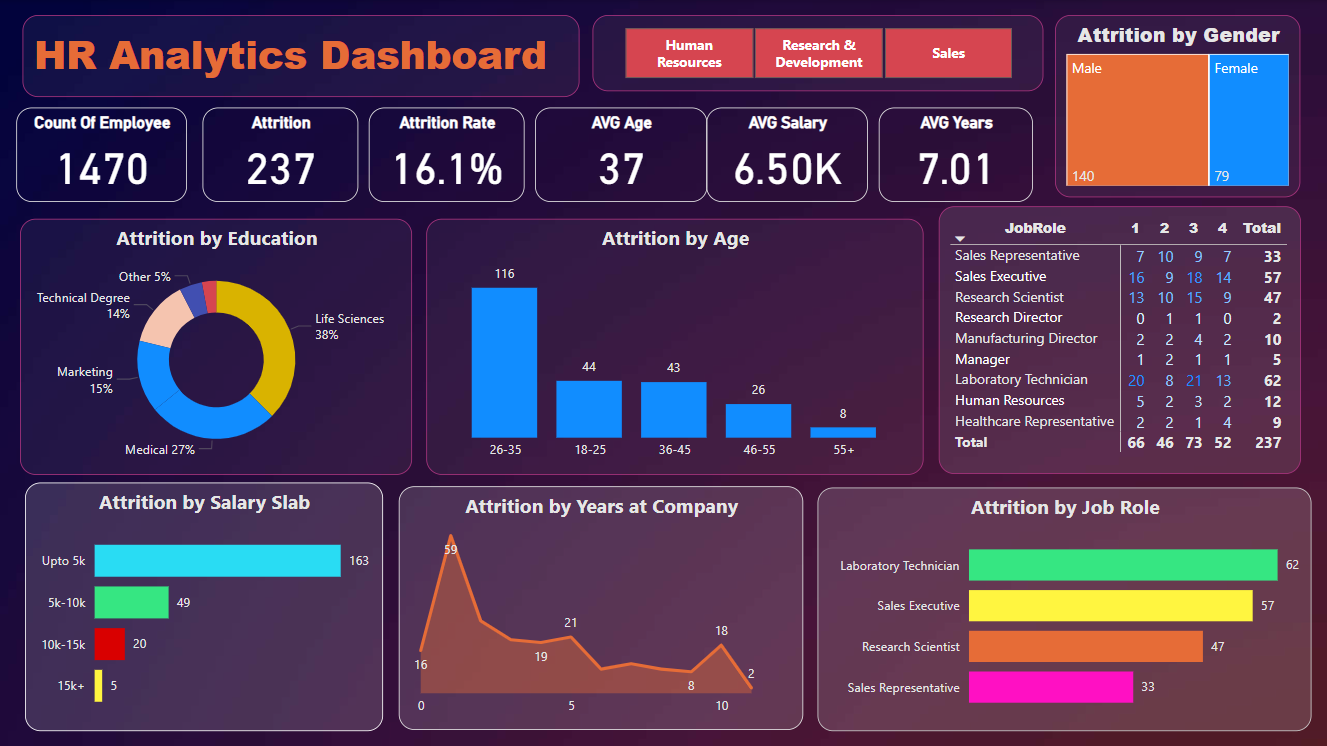

This screenshot's page, from the dashboard's own definition file:
{"tool":"powerbi","page":{"name":"Page 1","canvas":[1280,720],"ordinal":0},"visuals":[{"type":"card","title":"Count Of Employee","fields":{"Values":["CountNonNull(HR_Analytics.EmpID)"]},"box":[15.9,104,164.7,91],"z":0},{"type":"card","title":"Attrition","fields":{"Values":["Sum(HR_Analytics.Attrition Count)"]},"box":[195.1,104,150.3,91],"z":1000},{"type":"card","title":"Attrition Rate","fields":{"Values":["HR_Analytics.Attrition Rate"]},"box":[355.5,104,150.3,91],"z":2000},{"type":"card","title":"AVG Age","fields":{"Values":["Avg(HR_Analytics.Age)"]},"box":[515.9,104,166.2,91],"z":3000},{"type":"card","title":"AVG Salary","fields":{"Values":["Avg(HR_Analytics.MonthlyIncome)"]},"box":[682.1,104,156.1,91],"z":4000},{"type":"card","title":"AVG Years","fields":{"Values":["Avg(HR_Analytics.YearsAtCompany)"]},"box":[848.2,104,148.8,91],"z":5000},{"type":"donutChart","title":"Attrition by Education","fields":{"Category":["HR_Analytics.EducationField"],"Y":["Sum(HR_Analytics.Attrition Count)"]},"box":[18.8,211,378.6,247.1],"z":6000},{"type":"columnChart","title":"Attrition by Age","fields":{"Category":["HR_Analytics.AgeGroup"],"Y":["Sum(HR_Analytics.Attrition Count)"]},"box":[411.8,211,479.7,247.1],"z":7000},{"type":"pivotTable","fields":{"Rows":["HR_Analytics.JobRole"],"Columns":["HR_Analytics.JobSatisfaction"],"Values":["Sum(HR_Analytics.Attrition Count)"]},"box":[906,199.4,349.7,258.7],"z":8000},{"type":"barChart","title":"Attrition by Salary Slab","fields":{"Category":["HR_Analytics.SalarySlab"],"Y":["Sum(HR_Analytics.Attrition Count)"]},"box":[24.6,465.3,345.4,239.9],"z":9000},{"type":"barChart","title":"Attrition by Job Role","fields":{"Y":["Sum(HR_Analytics.Attrition Count)"],"Category":["HR_Analytics.JobRole"]},"box":[789,471.1,476.9,235.5],"z":10000},{"type":"areaChart","title":"Attrition by Years at Company","fields":{"Category":["HR_Analytics.YearsAtCompany"],"Y":["Sum(HR_Analytics.Attrition Count)"]},"box":[384.4,469.6,390.2,235.5],"z":11000},{"type":"treemap","title":"Attrition by Gender","fields":{"Group":["HR_Analytics.Gender"],"Values":["Sum(HR_Analytics.Attrition Count)"]},"box":[1018.7,14.5,237,176.3],"z":12000},{"type":"slicer","fields":{"Values":["HR_Analytics.Department"]},"box":[572.2,14.5,435,73.7],"z":13000},{"type":"textbox","box":[21.7,14.5,537.5,79.5],"z":14000}]}

Visuals, with their boxes in screenshot pixels (x1, y1, x2, y2), scaled from the page's 1280x720 canvas onto the 1327x746 screenshot:
"Count Of Employee" card: x1=16 y1=108 x2=187 y2=202
"Attrition" card: x1=202 y1=108 x2=358 y2=202
"Attrition Rate" card: x1=369 y1=108 x2=524 y2=202
"AVG Age" card: x1=535 y1=108 x2=707 y2=202
"AVG Salary" card: x1=707 y1=108 x2=869 y2=202
"AVG Years" card: x1=879 y1=108 x2=1034 y2=202
"Attrition by Education" donutChart: x1=19 y1=219 x2=412 y2=475
"Attrition by Age" columnChart: x1=427 y1=219 x2=924 y2=475
pivotTable - HR_Analytics.JobRole x HR_Analytics.JobSatisfaction: x1=939 y1=207 x2=1302 y2=475
"Attrition by Salary Slab" barChart: x1=26 y1=482 x2=384 y2=731
"Attrition by Job Role" barChart: x1=818 y1=488 x2=1312 y2=732
"Attrition by Years at Company" areaChart: x1=399 y1=487 x2=803 y2=731
"Attrition by Gender" treemap: x1=1056 y1=15 x2=1302 y2=198
slicer - HR_Analytics.Department: x1=593 y1=15 x2=1044 y2=91
textbox: x1=22 y1=15 x2=580 y2=97
